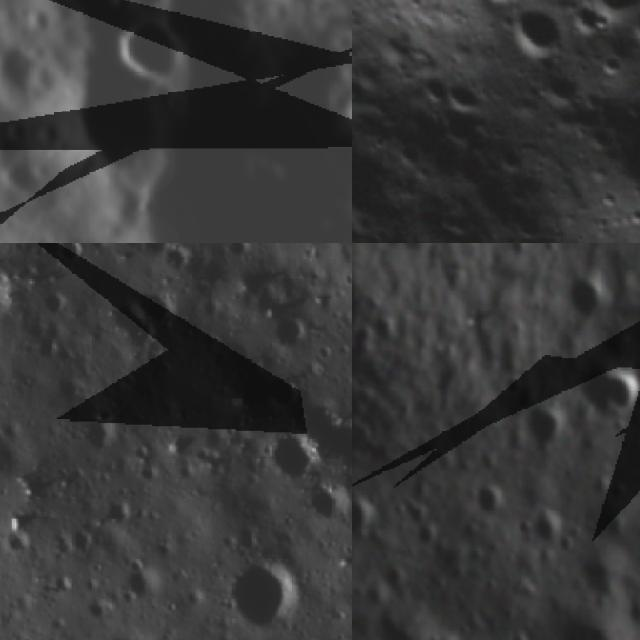crater: (103, 9, 201, 115), (224, 554, 308, 638), (0, 33, 65, 126), (501, 0, 583, 68), (254, 425, 328, 484), (233, 360, 307, 418), (434, 60, 499, 126), (581, 358, 640, 425), (83, 0, 189, 34), (367, 604, 464, 640), (106, 297, 154, 368), (544, 605, 640, 640), (558, 0, 640, 40), (563, 264, 615, 323), (310, 410, 352, 478), (0, 154, 51, 207), (522, 401, 568, 458), (578, 552, 628, 601), (304, 484, 352, 529), (525, 504, 572, 548), (271, 310, 312, 359), (120, 561, 163, 607), (468, 480, 508, 522), (0, 268, 24, 336), (433, 544, 473, 584), (618, 0, 640, 63), (332, 90, 352, 159), (352, 491, 378, 540), (499, 370, 532, 403), (382, 560, 412, 590), (504, 626, 530, 640)
